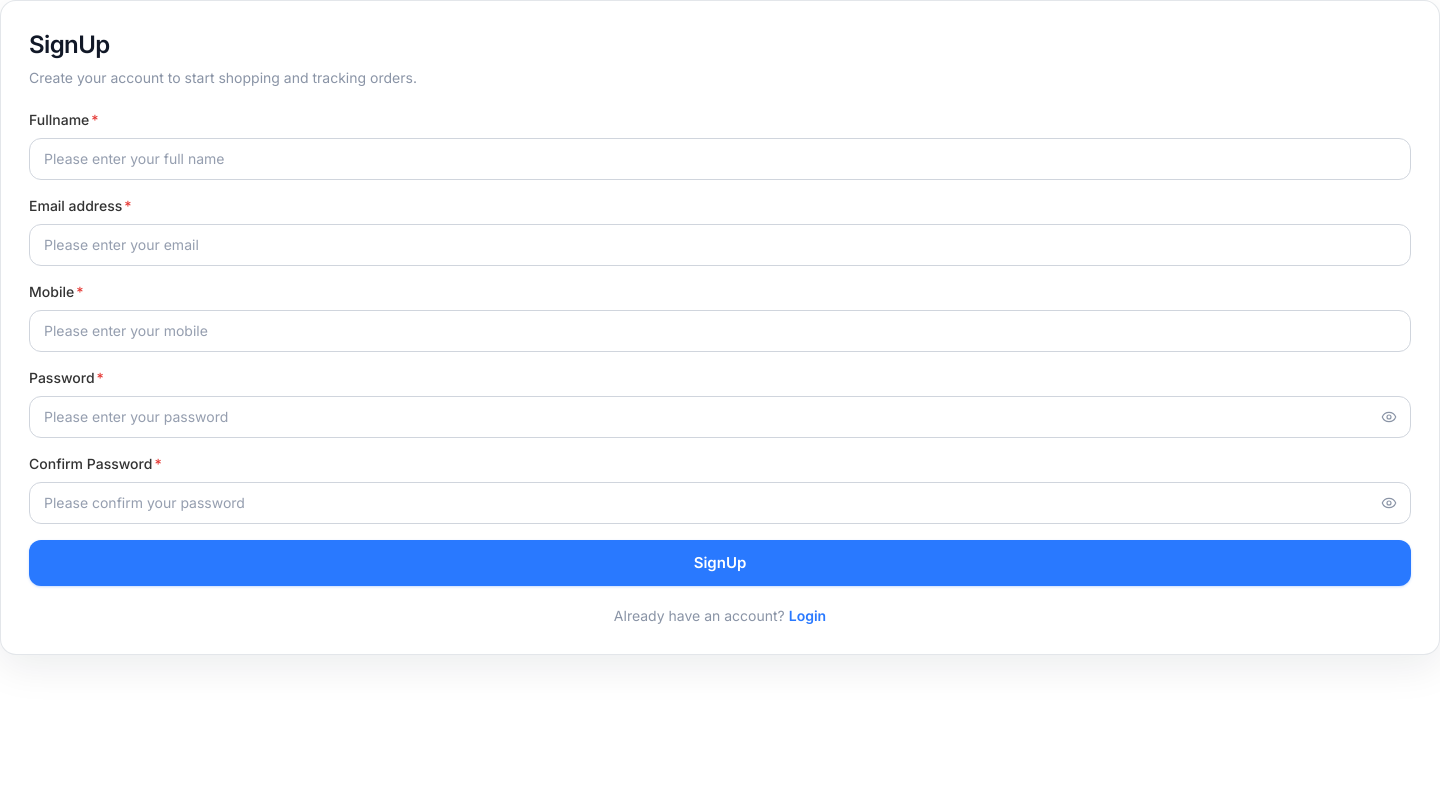
Scenario: SignUpForm › shows API error message on failed sign-up
Type "John Smith" into the field labelled "Fullname*" at (720, 159), box top-left (29, 138), bottom-right (1411, 180)
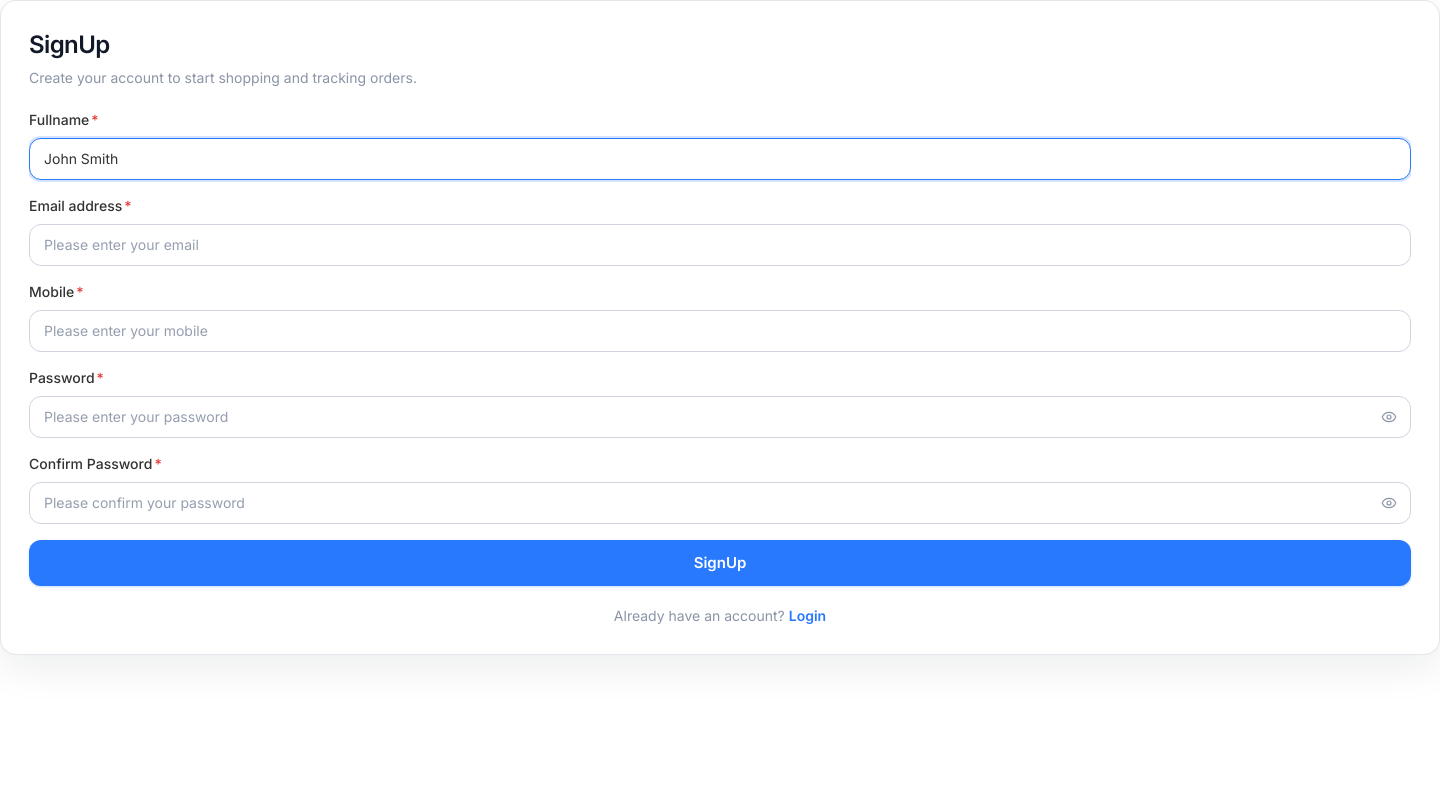
Type "john@example.com" into the field labelled "Email address*" at (720, 245), box top-left (29, 224), bottom-right (1411, 266)
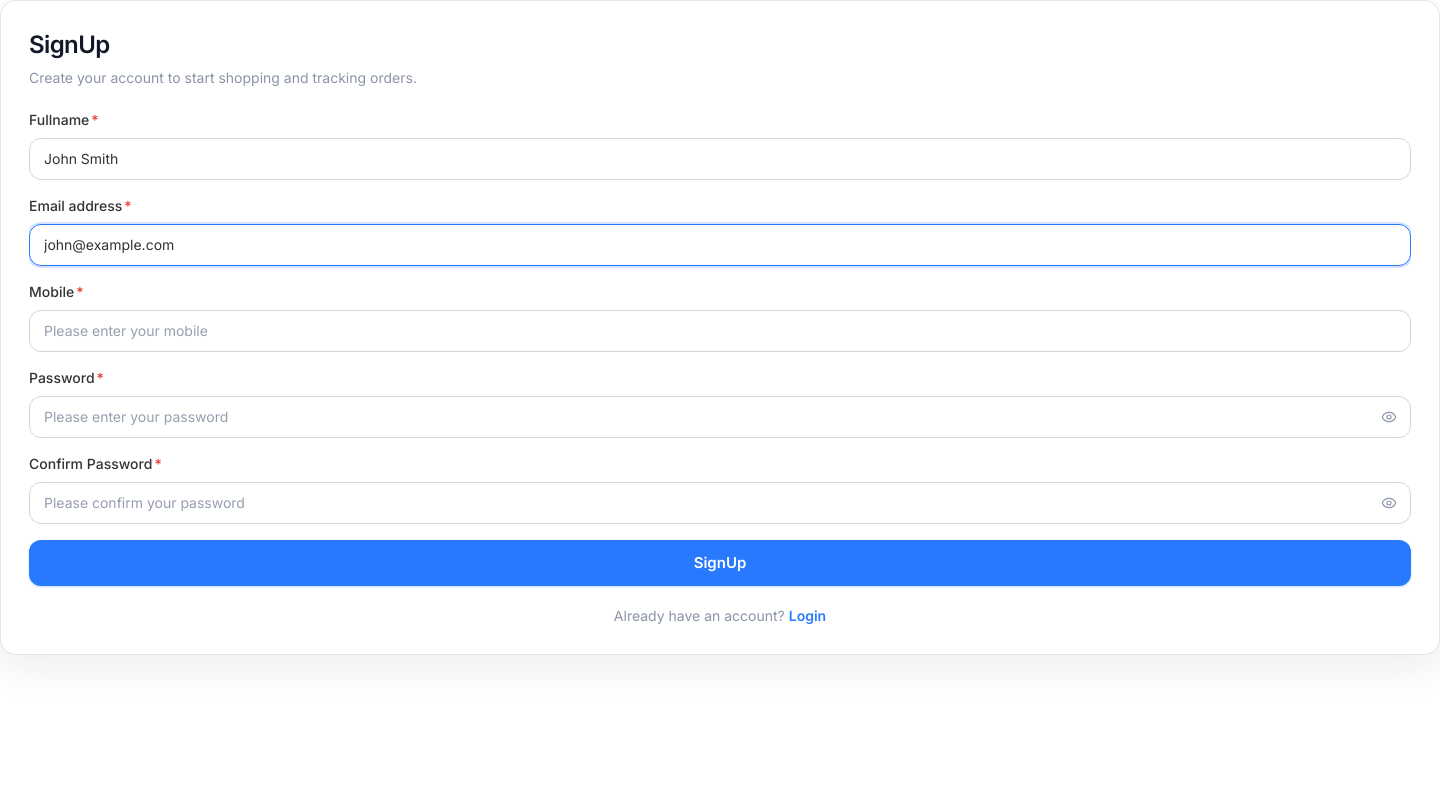
Type "+911122334455" into the field labelled "Mobile*" at (720, 331), box top-left (29, 310), bottom-right (1411, 352)
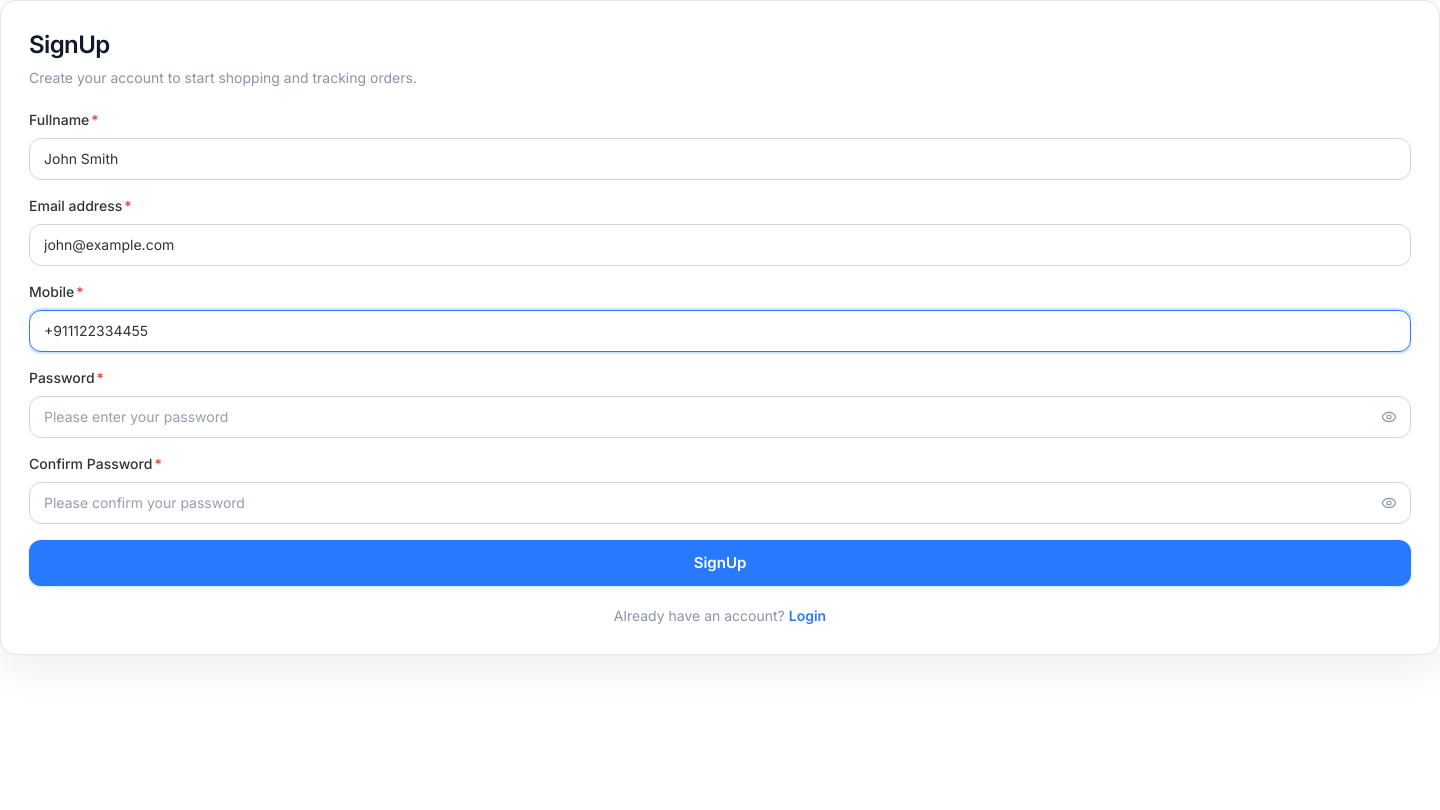
Type "SecurePass1!" into the password field with placeholder "Please enter your password" at (720, 417), box top-left (29, 396), bottom-right (1411, 438)
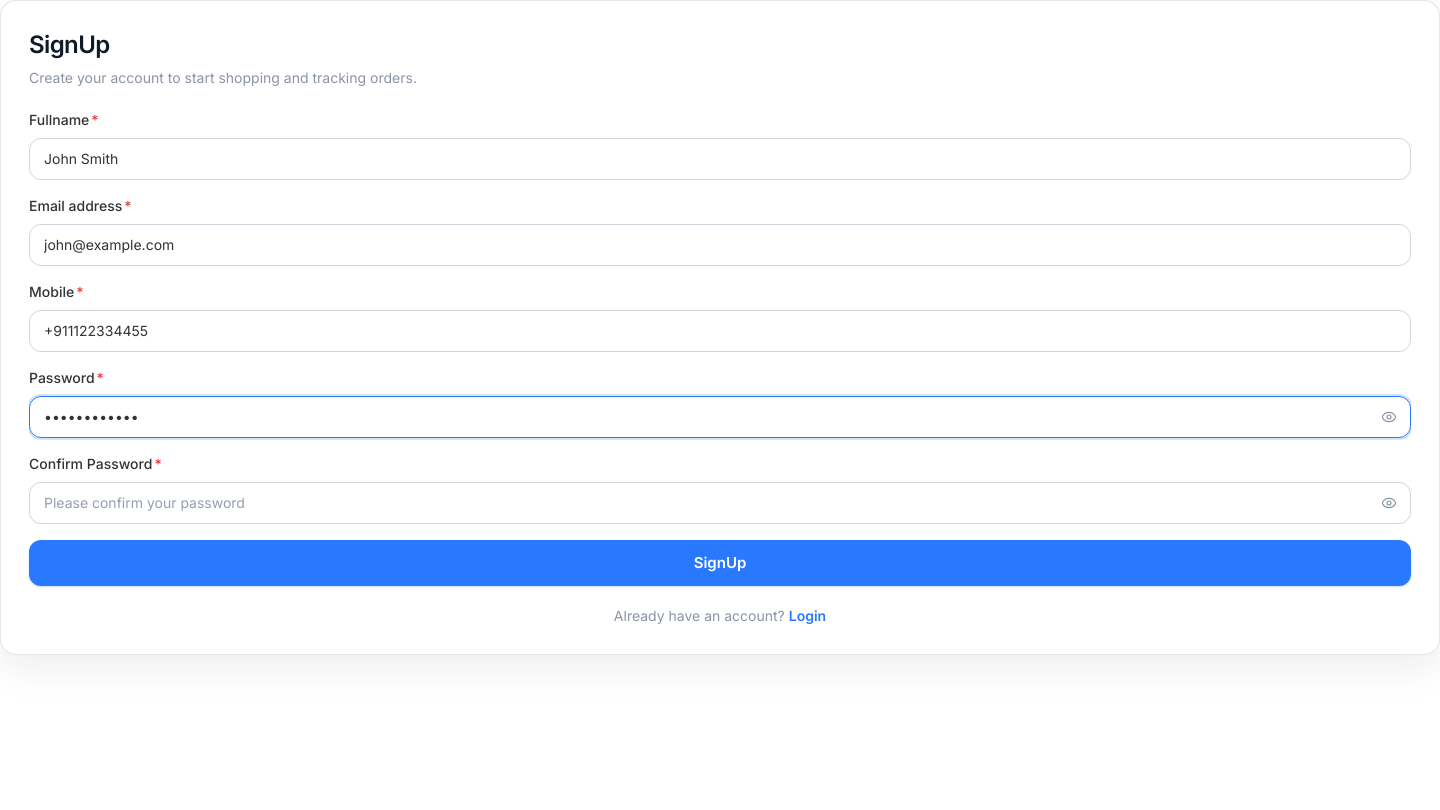
Type "SecurePass1!" into the password field with placeholder "Please confirm your password" at (720, 503), box top-left (29, 482), bottom-right (1411, 524)
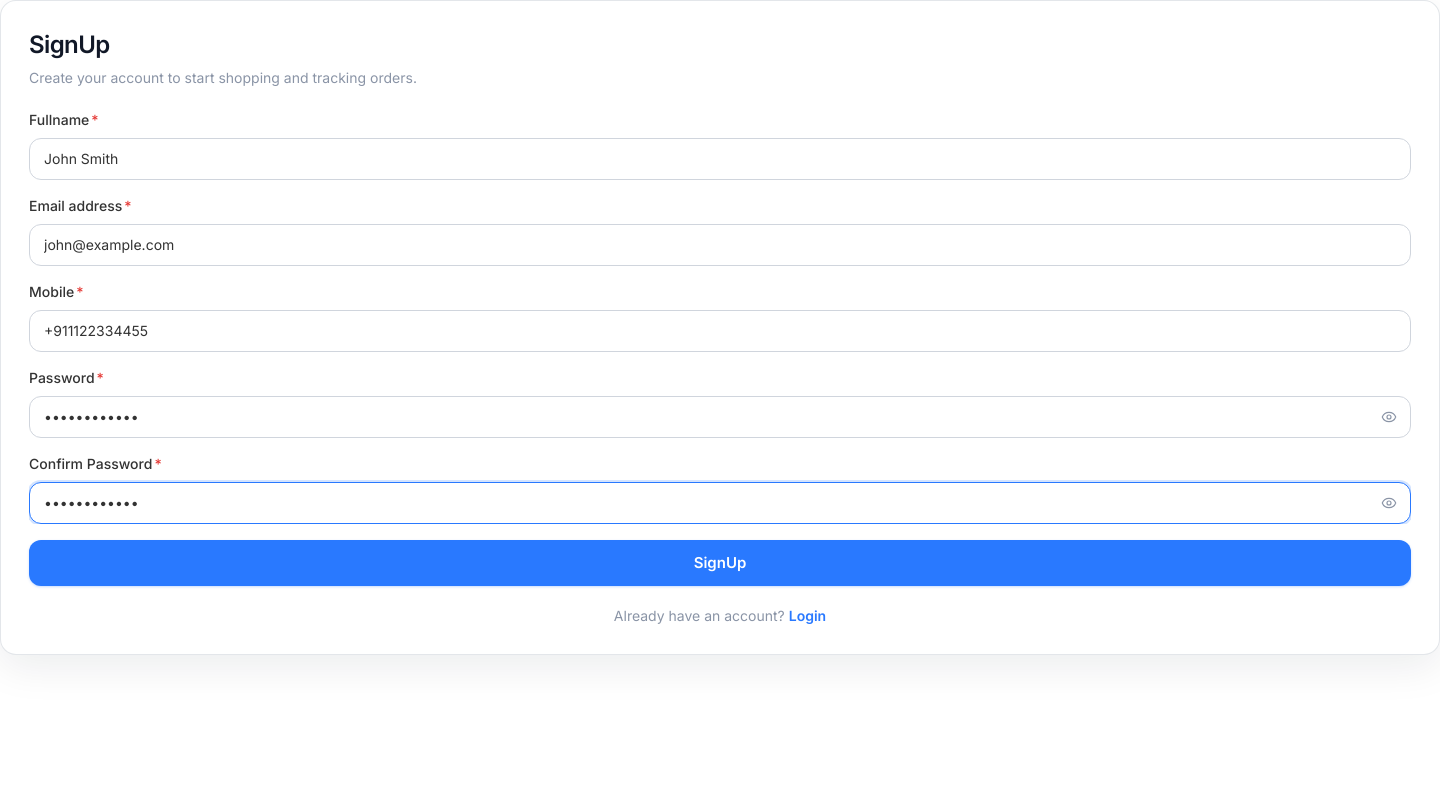
Click the button "SignUp" at (720, 563), box top-left (29, 540), bottom-right (1411, 586)
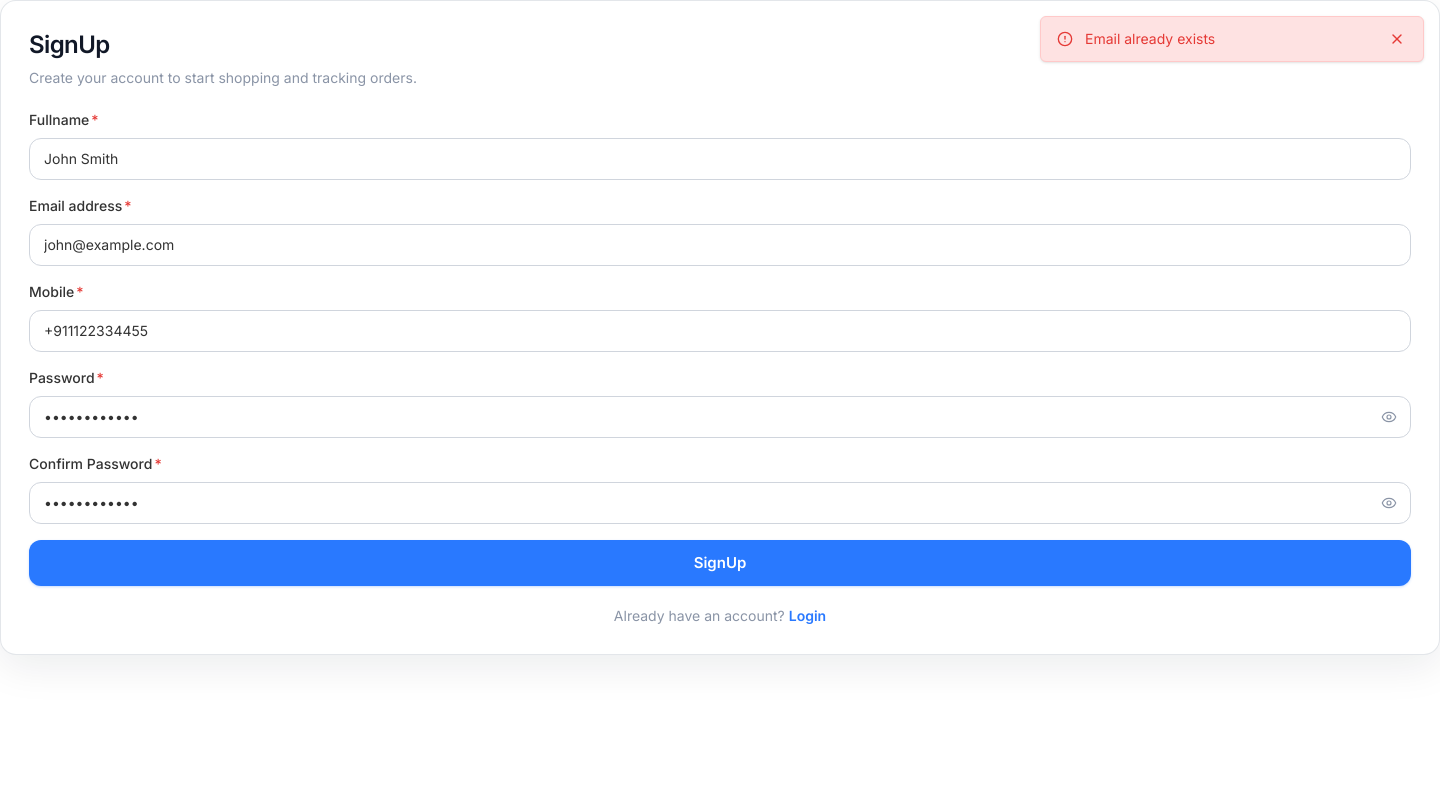
Now the text "Email already exists" is shown, box top-left (1085, 30), bottom-right (1215, 47)
